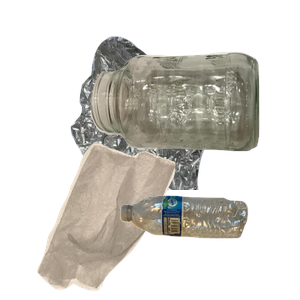glass: (88, 50, 300, 194)
metal: (68, 34, 300, 214)
plastic: (118, 193, 300, 300)
trash: (35, 140, 203, 300)
